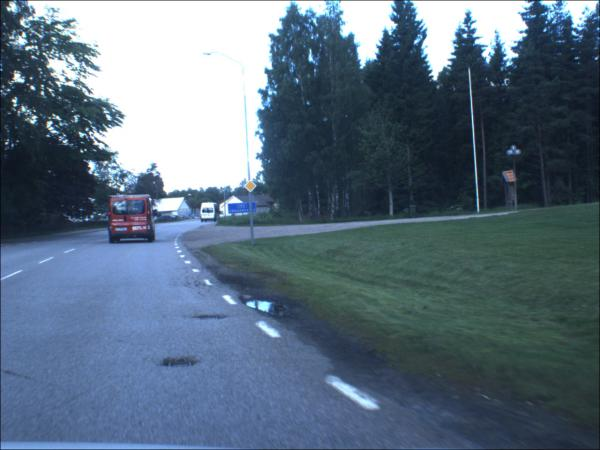PRIORITY_ROAD: (245, 181, 259, 195)
